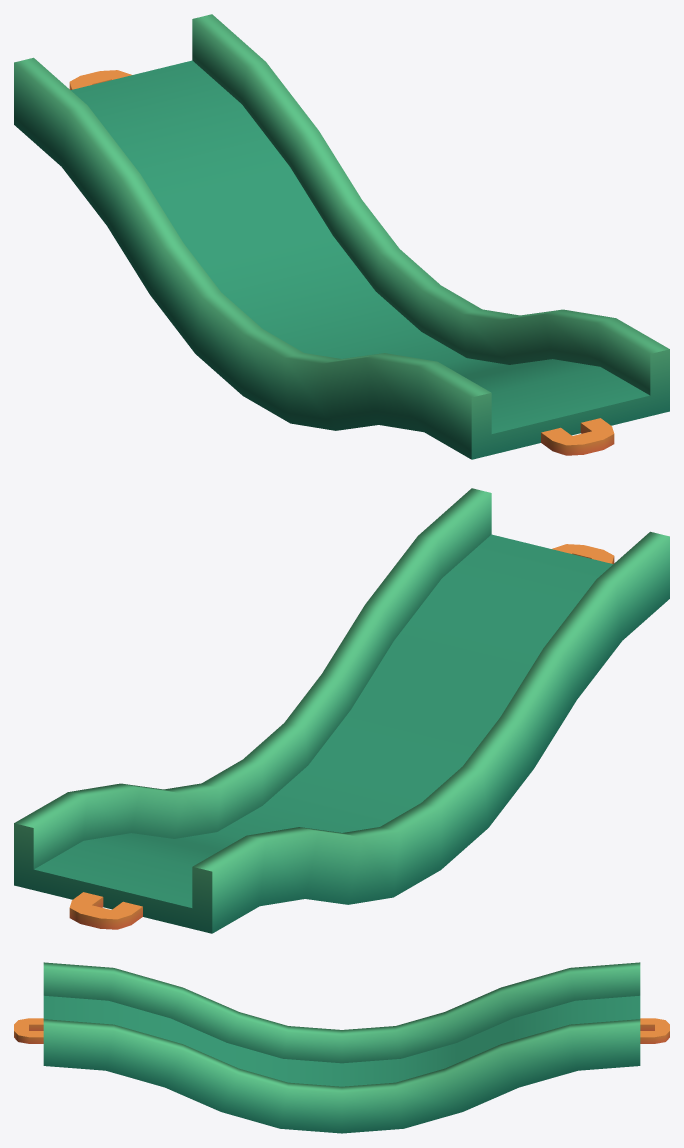
Rendered from track-narrow-straight-bump-down.fbx.
3 renders of one model, top to bottom at view 1: azimuth 30°, elevation 25°; view 2: azimuth 150°, elevation 25°; view 3: azimuth 270°, elevation 25°, orthographic. The views are drawn at different scales.
Visible parts, largest first — view 1: track-narrow-straight-bump-down; view 2: track-narrow-straight-bump-down; view 3: track-narrow-straight-bump-down.
Boxes of the visible parts, x1,y1,x2,y2 form: track-narrow-straight-bump-down: (14,14,669,459); track-narrow-straight-bump-down: (14,488,669,933); track-narrow-straight-bump-down: (14,962,669,1133).
Bounding box in the file's own units: 100 × 80 × 440.
